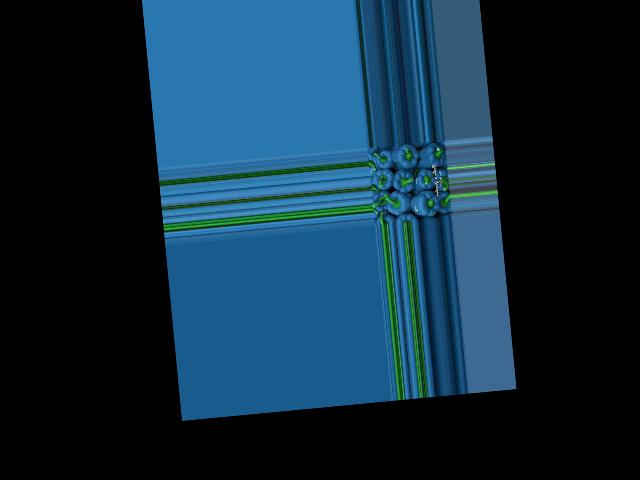bell_pepper: (433, 189, 452, 217)
